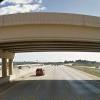Bridge: (3, 7, 100, 62)
